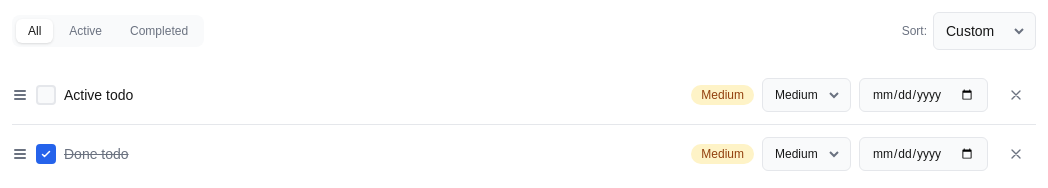
Test: TodoFilter › shows only completed todos when Completed is selected (covers: AC-3)
Click the button with aria-label "Show completed todos" at (159, 31), box [118,19,200,43]
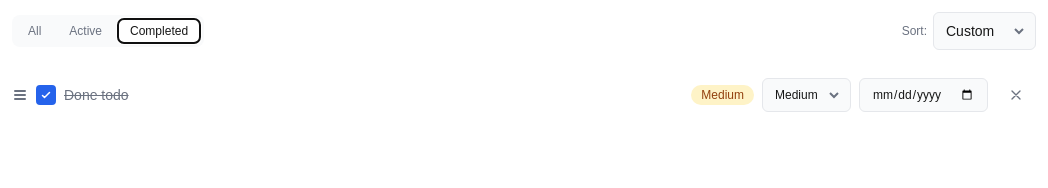
Check: the text "Done todo" is shown, box [64,87,129,103]
Check: the text "Active todo" is gone
